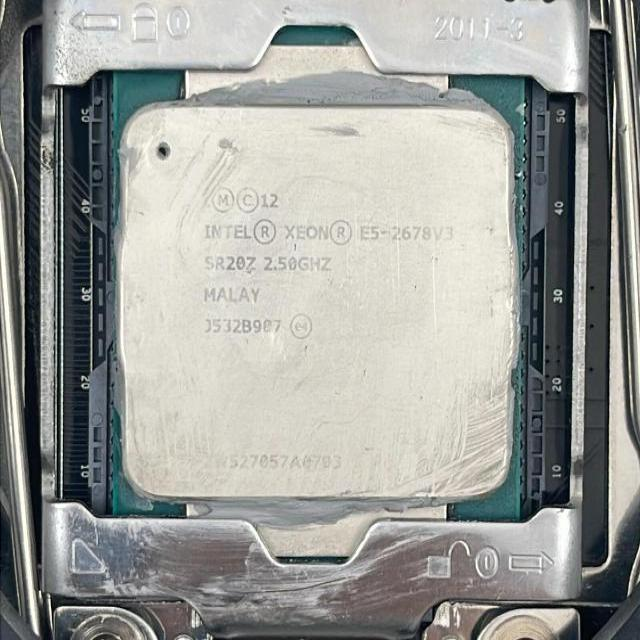CPU: (109, 96, 527, 506)
